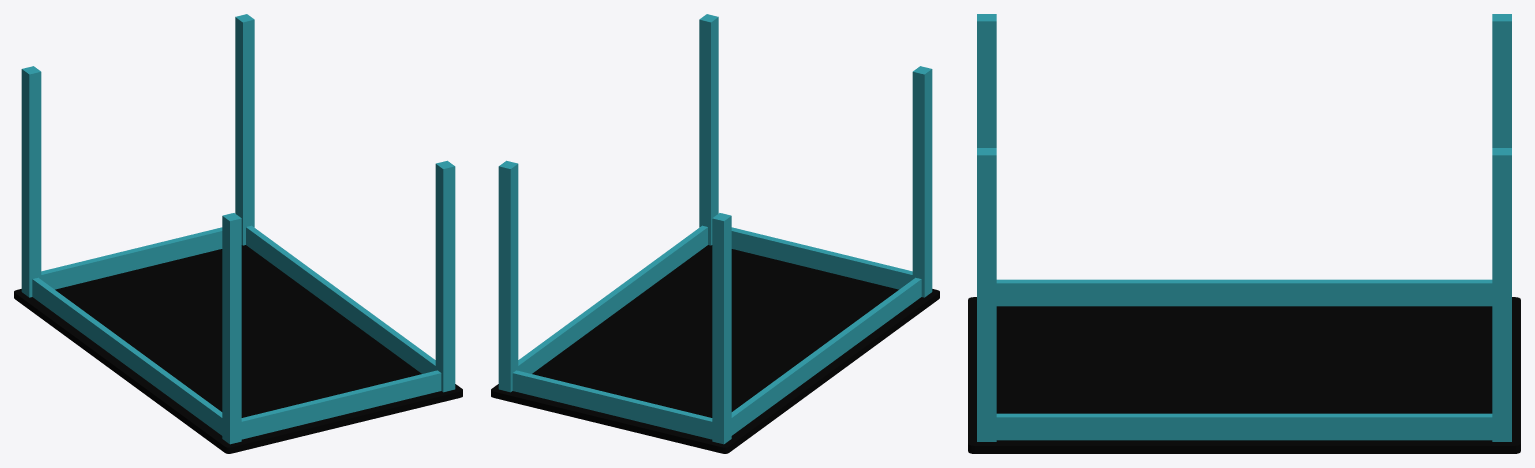
Rendered from TableExport.fbx.
3 renders of one model, left to right at view 1: azimuth 30°, elevation 25°; view 2: azimuth 150°, elevation 25°; view 3: azimuth 270°, elevation 25°, orthographic. The views are drawn at different scales.
Visible parts, largest first — view 1: Table07; view 2: Table07; view 3: Table07.
Part boxes in pixels (x1,y1,x2,y2): Table07: [14, 14, 462, 453]; Table07: [491, 14, 939, 453]; Table07: [968, 14, 1520, 453].
Size of the model in its own units: 79 by 73 by 124.
